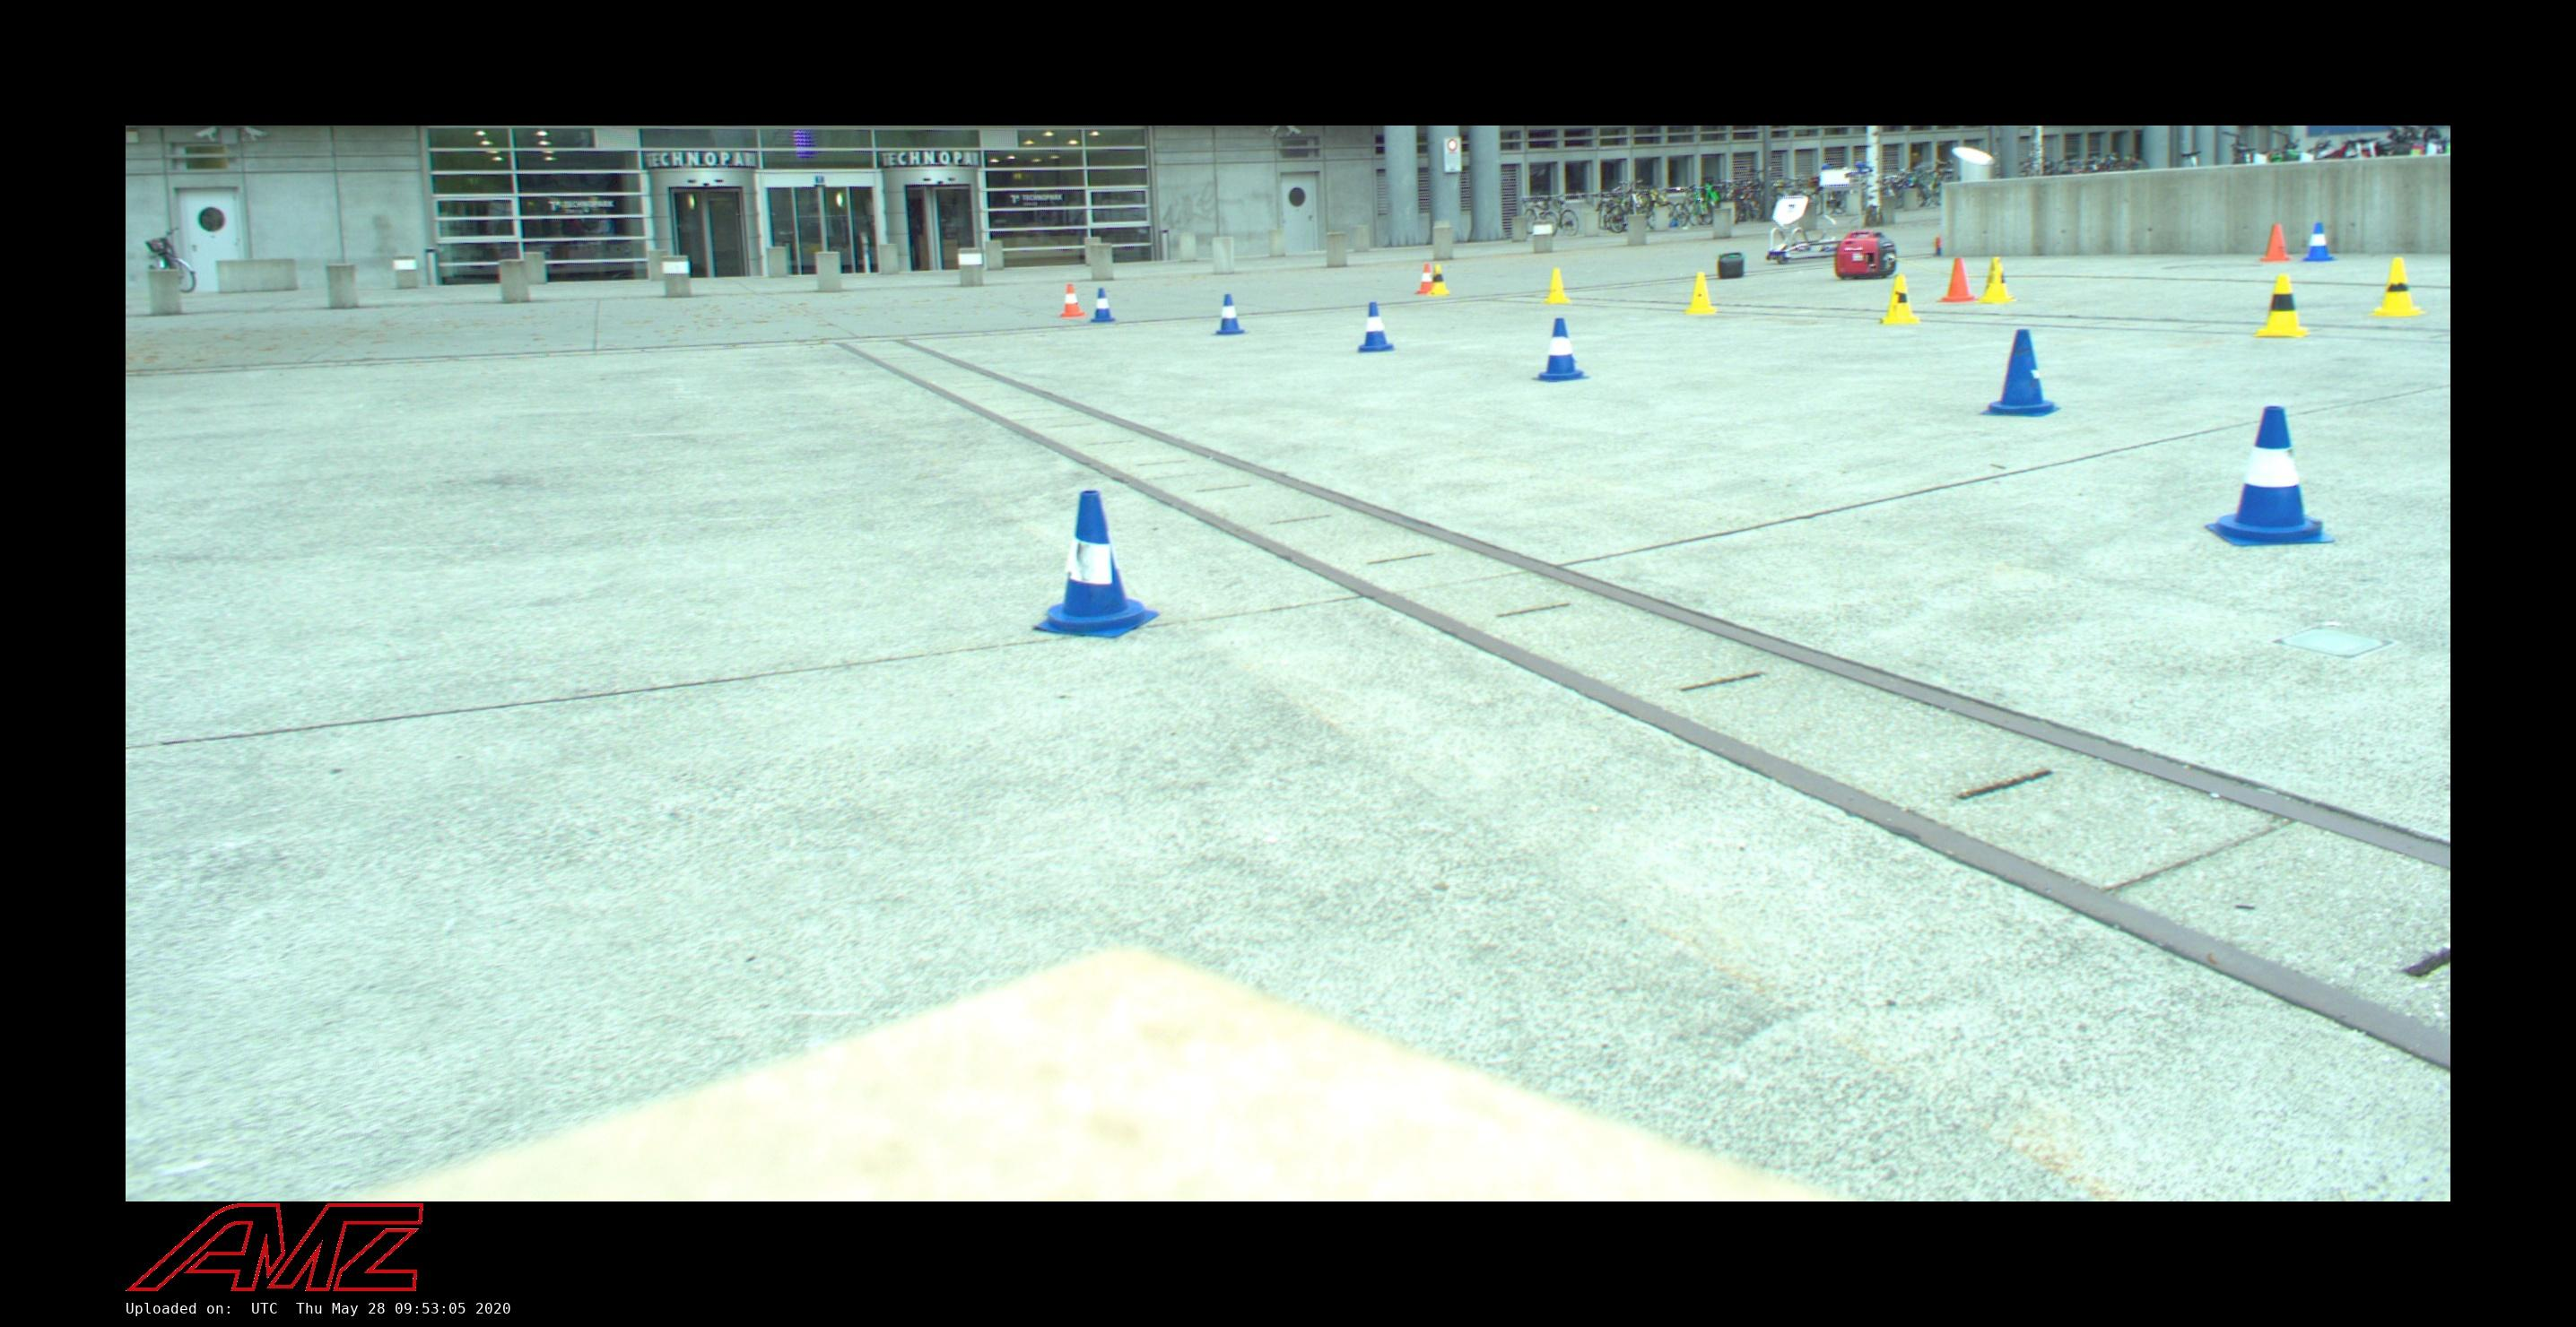blue_cone: (1031, 494, 1159, 638), (2209, 405, 2332, 545), (1982, 328, 2063, 418), (1530, 322, 1591, 383), (1352, 303, 1398, 352), (1210, 295, 1251, 335), (2300, 222, 2337, 261), (1083, 289, 1119, 323)
orange_cone: (1936, 259, 1979, 303), (2260, 223, 2290, 262), (1058, 283, 1087, 318), (1415, 264, 1435, 295)
yellow_cone: (2251, 274, 2314, 337), (2366, 257, 2430, 317), (1877, 274, 1921, 323), (1677, 273, 1726, 315), (1975, 257, 2017, 303), (1427, 264, 1449, 296)
